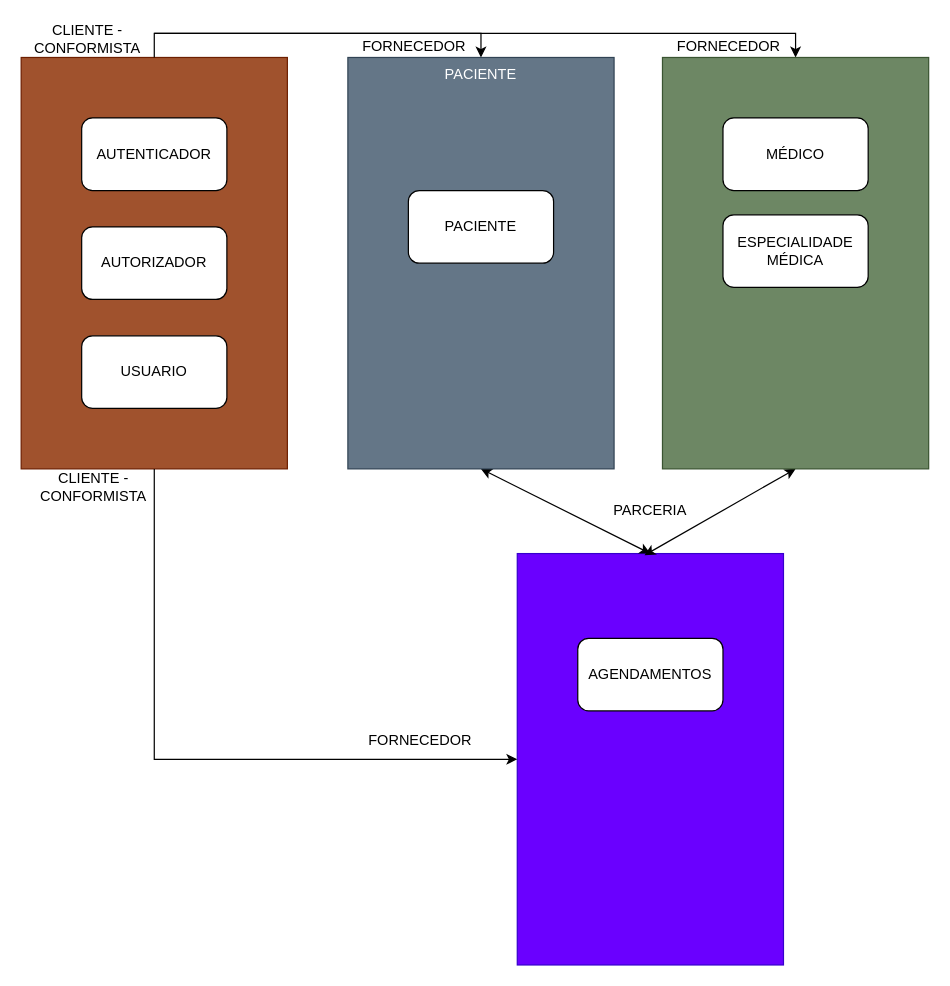
Image size: 950x986. Some labels were removed from this diagram. Each missing label, with the box of its shape:
ACESSO: (20, 56, 287, 469)
CONSULTA: (516, 552, 783, 965)
MEDICO: (661, 56, 929, 469)
